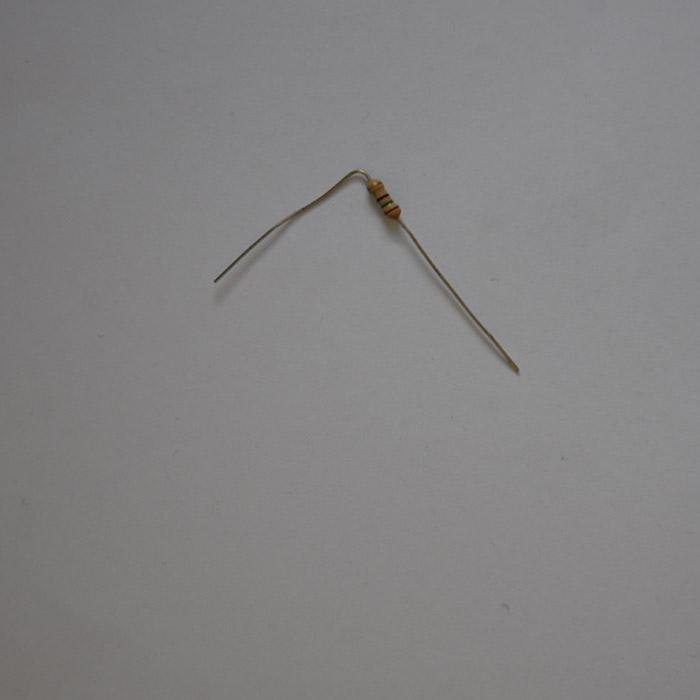resistor: (366, 177, 399, 220)
